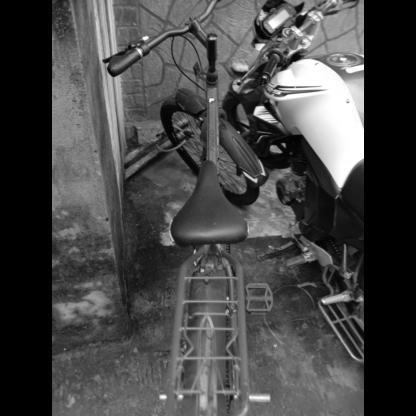Bicycle: (72, 1, 289, 415)
